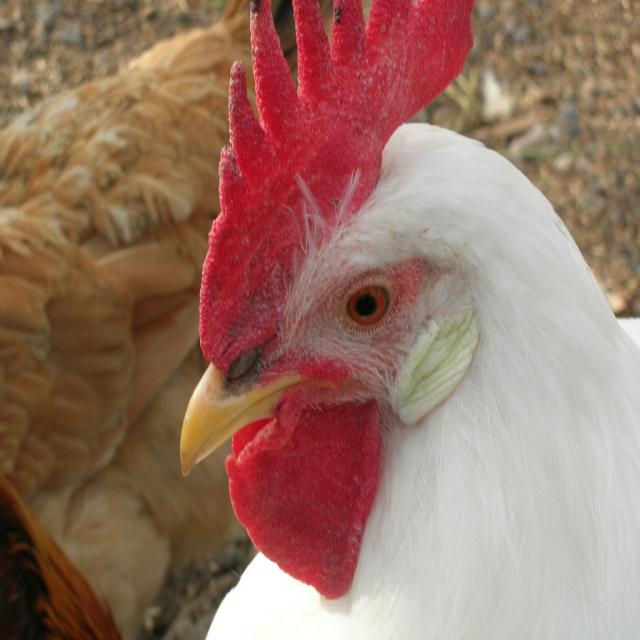Chicken: (165, 24, 640, 640)
